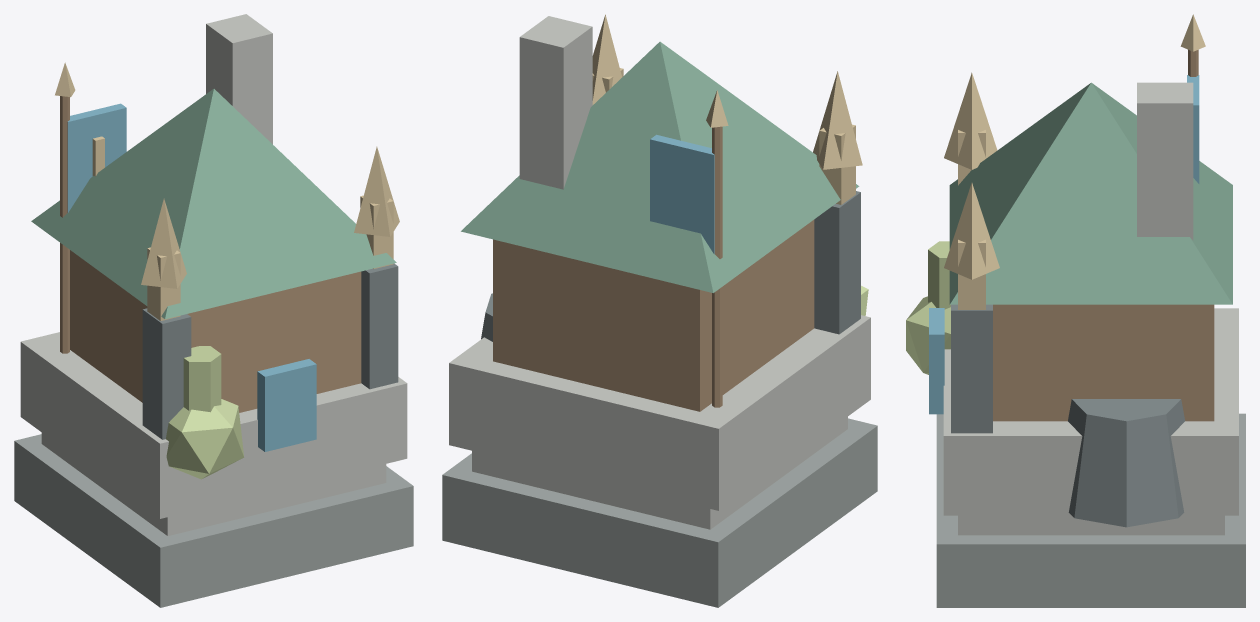
Rendered from human_alchemist_t5.glb.
The picture shows the model from 3 angles, left to right: view 1: azimuth 30°, elevation 25°; view 2: azimuth 150°, elevation 25°; view 3: azimuth 270°, elevation 25°; orthographic projection. The views are drawn at different scales.
Visible parts, largest first — view 1: human_alchemist_t5_MAT_stone, human_alchemist_t5_MAT_leaf, human_alchemist_t5_MAT_dark, human_alchemist_t5_MAT_wood, human_alchemist_t5_MAT_iron, human_alchemist_t5_MAT_blue, human_alchemist_t5_MAT_poison, human_alchemist_t5_MAT_gold; view 2: human_alchemist_t5_MAT_stone, human_alchemist_t5_MAT_leaf, human_alchemist_t5_MAT_wood, human_alchemist_t5_MAT_dark, human_alchemist_t5_MAT_iron, human_alchemist_t5_MAT_blue, human_alchemist_t5_MAT_gold; view 3: human_alchemist_t5_MAT_leaf, human_alchemist_t5_MAT_stone, human_alchemist_t5_MAT_dark, human_alchemist_t5_MAT_wood, human_alchemist_t5_MAT_iron, human_alchemist_t5_MAT_gold, human_alchemist_t5_MAT_poison, human_alchemist_t5_MAT_blue.
Boxes of the visible parts, x1,y1,x2,y2 form: human_alchemist_t5_MAT_stone: (20, 14, 407, 535); human_alchemist_t5_MAT_leaf: (31, 89, 396, 319); human_alchemist_t5_MAT_dark: (14, 434, 413, 607); human_alchemist_t5_MAT_wood: (60, 96, 361, 412); human_alchemist_t5_MAT_iron: (142, 263, 398, 439); human_alchemist_t5_MAT_blue: (67, 103, 316, 451); human_alchemist_t5_MAT_poison: (166, 346, 244, 479); human_alchemist_t5_MAT_gold: (55, 62, 399, 320); human_alchemist_t5_MAT_stone: (449, 16, 870, 529); human_alchemist_t5_MAT_leaf: (461, 41, 859, 292); human_alchemist_t5_MAT_wood: (493, 126, 814, 411); human_alchemist_t5_MAT_dark: (442, 418, 877, 607); human_alchemist_t5_MAT_iron: (481, 191, 860, 341); human_alchemist_t5_MAT_blue: (650, 134, 714, 254); human_alchemist_t5_MAT_gold: (592, 14, 862, 204); human_alchemist_t5_MAT_leaf: (949, 82, 1232, 304); human_alchemist_t5_MAT_stone: (943, 82, 1238, 535); human_alchemist_t5_MAT_dark: (936, 413, 1245, 607); human_alchemist_t5_MAT_wood: (993, 49, 1214, 421); human_alchemist_t5_MAT_iron: (951, 304, 1184, 527); human_alchemist_t5_MAT_gold: (944, 14, 1205, 309); human_alchemist_t5_MAT_poison: (906, 241, 950, 374); human_alchemist_t5_MAT_blue: (929, 75, 1199, 414).
Bounding box in the file's own units: 0.98 × 1.51 × 0.9676.
